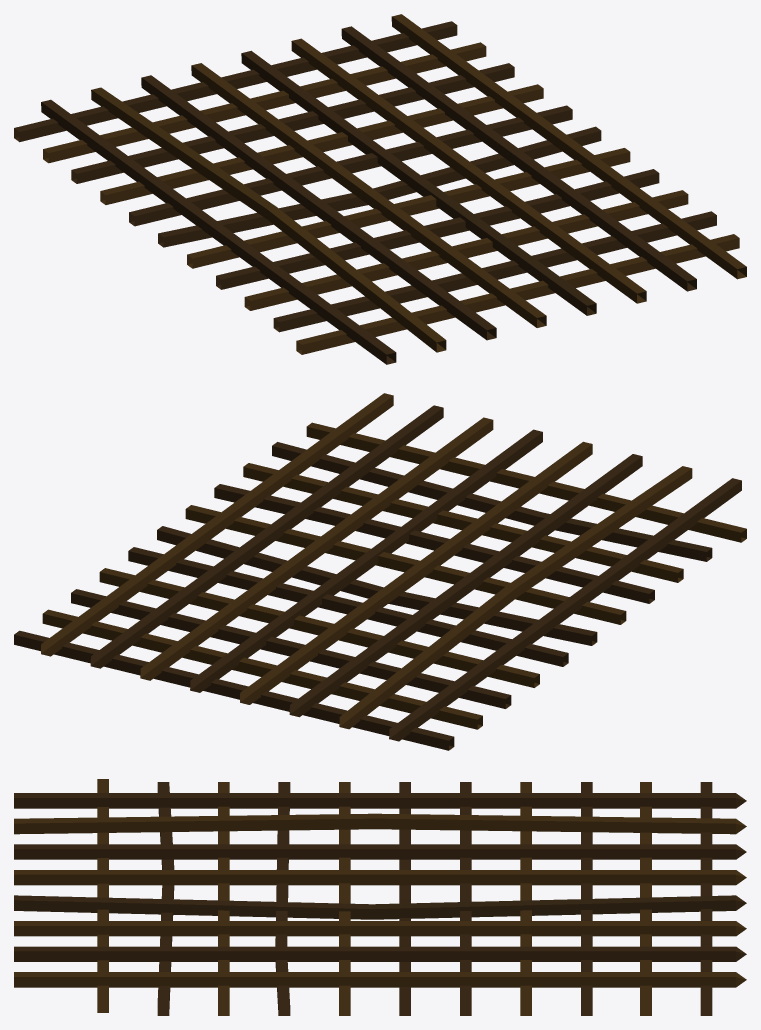
The model's file is lattice large.obj.
The picture shows the model from 3 angles, top to bottom: view 1: azimuth 30°, elevation 25°; view 2: azimuth 150°, elevation 25°; view 3: azimuth 270°, elevation 25°; orthographic projection. The views are drawn at different scales.
Parts seen in each view (by area): view 1: Object.1; view 2: Object.1; view 3: Object.1.
Boxes of the visible parts, x1=… form: Object.1: x1=14, y1=14, x2=746, y2=364; Object.1: x1=14, y1=393, x2=746, y2=750; Object.1: x1=14, y1=779, x2=746, y2=1015.
Size of the model in its own units: 4156 by 288 by 5683.
1 material, 1 textured.
